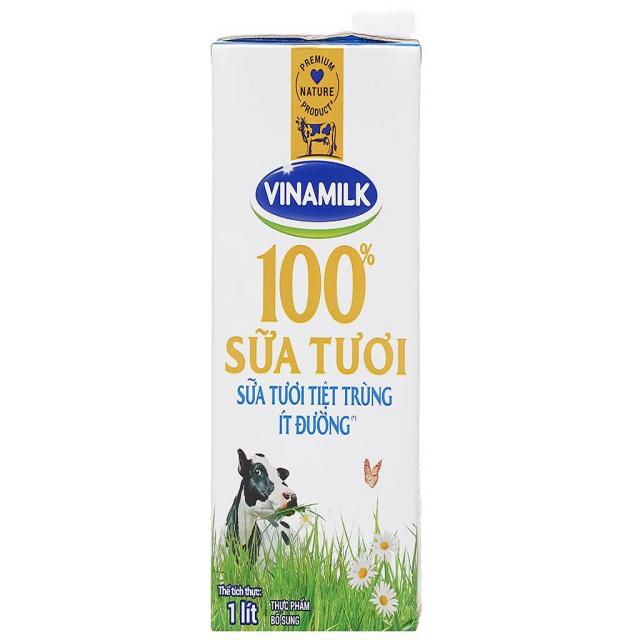non_white_jug: (198, 11, 432, 640)
